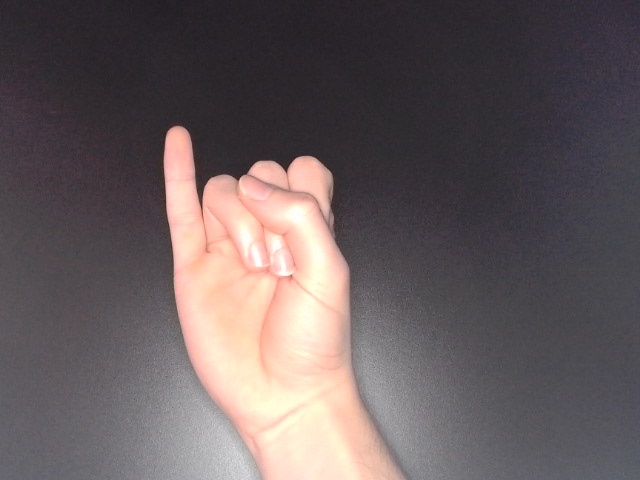i: (157, 122, 355, 453)
